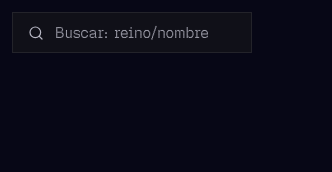
Test case: QuickSearch › navigates to the character route on Enter
Type "Grobbulus/Billiemoi" into the field named "Buscar personaje" at [132, 32], box [12,12,252,53]
Then press Enter
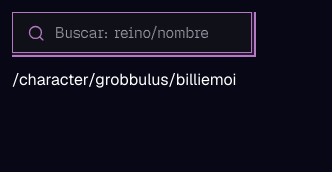
Check: the text with test id "location" reads "/character/grobbulus/billiemoi", box [12,69,236,90]
